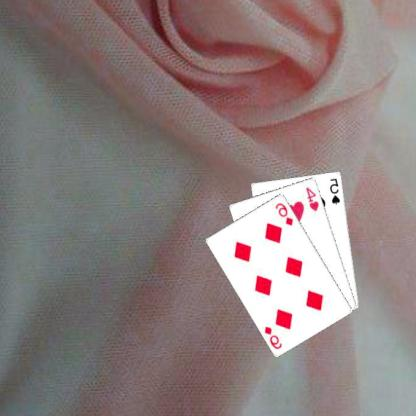4H: (305, 184, 322, 212)
5S: (329, 175, 343, 205)
6D: (274, 200, 296, 226), (264, 324, 285, 350)
